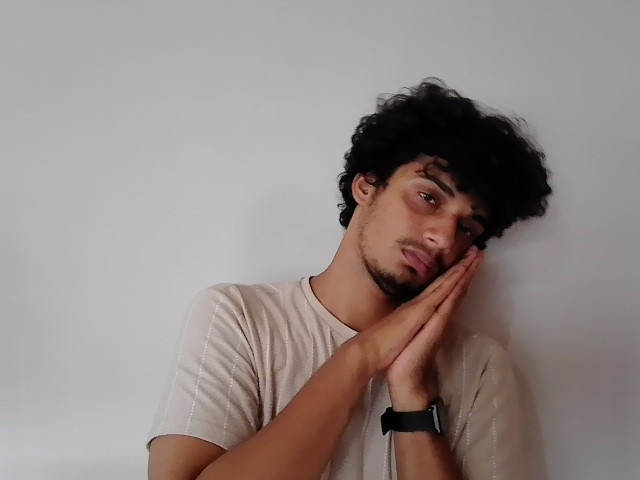sleep: (348, 239, 482, 375)
